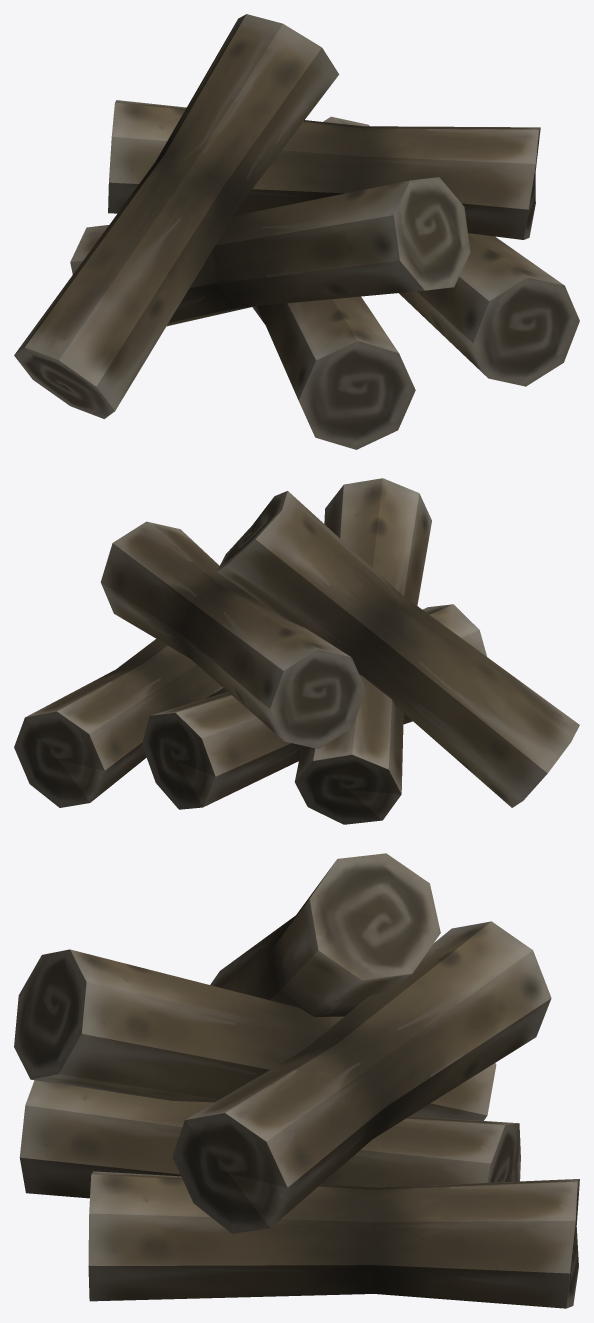
File: SM_rulony.fbx
3 views of the same model, one above another, from view 1: azimuth 30°, elevation 25°; view 2: azimuth 150°, elevation 25°; view 3: azimuth 270°, elevation 25° (orthographic). The views are drawn at different scales.
Parts seen in each view (by area): view 1: rulon papieru duzy.007, rulon papieru duzy.005, rulon papieru duzy.006, rulon papieru duzy.004, rulon papieru duzy.003; view 2: rulon papieru duzy.007, rulon papieru duzy.006, rulon papieru duzy.005, rulon papieru duzy.003, rulon papieru duzy.004; view 3: rulon papieru duzy.003, rulon papieru duzy.006, rulon papieru duzy.005, rulon papieru duzy.004, rulon papieru duzy.007.
Part boxes in pixels (x1,y1,x2,y2): rulon papieru duzy.007: (14, 14, 339, 418); rulon papieru duzy.005: (70, 177, 470, 326); rulon papieru duzy.006: (108, 100, 540, 239); rulon papieru duzy.004: (252, 296, 415, 449); rulon papieru duzy.003: (323, 116, 579, 386); rulon papieru duzy.007: (217, 491, 579, 807); rulon papieru duzy.006: (100, 521, 365, 748); rulon papieru duzy.005: (295, 478, 431, 824); rulon papieru duzy.003: (14, 639, 227, 807); rulon papieru duzy.004: (142, 604, 486, 809); rulon papieru duzy.003: (88, 1171, 579, 1308); rulon papieru duzy.006: (172, 921, 551, 1233); rulon papieru duzy.005: (14, 949, 496, 1120); rulon papieru duzy.004: (19, 1080, 520, 1198); rulon papieru duzy.007: (210, 853, 440, 1016).
Size of the model in its own units: 131 by 76.64 by 108.
